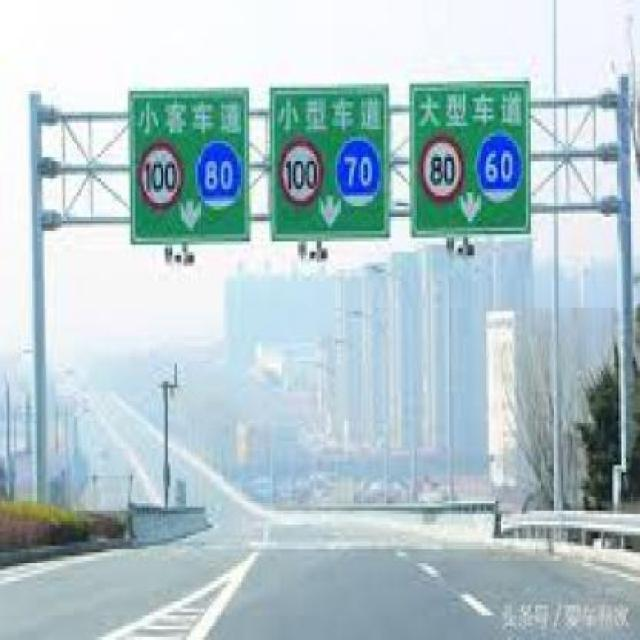forb_speed_over_100: (139, 145, 182, 207), (283, 137, 323, 203)
forb_speed_over_80: (422, 137, 464, 200)
